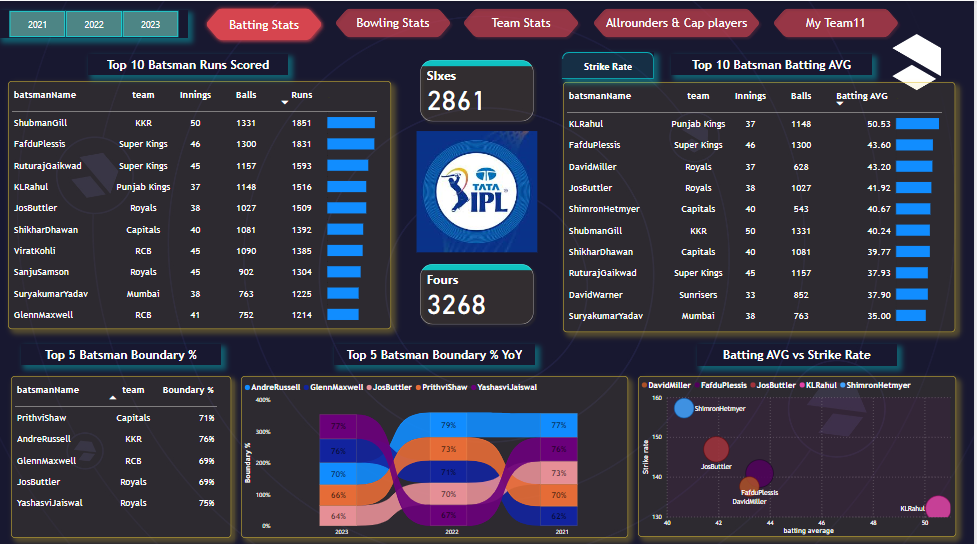

This screenshot's page, from the dashboard's own definition file:
{"tool":"powerbi","page":{"name":"Batting Stats","canvas":[1920,1080],"ordinal":0},"visuals":[{"type":"scatterChart","title":"Scatter by Avg","fields":{"Y":["keymeasure.Strike rate"],"Category":["fact_bating_summary.batsmanName"],"Size":["Sum(fact_bating_summary.runs)"],"Series":["fact_bating_summary.batsmanName"],"X":["keymeasure.batting average"]},"box":[1259.8,738.5,626.7,317.3],"z":0,"group":"g1"},{"type":"ribbonChart","fields":{"Category":["fact_bating_summary.year"],"Y":["keymeasure.Boundary %"],"Series":["fact_bating_summary.batsmanName"]},"box":[476.9,739.1,762.7,319.3],"z":0},{"type":"tableEx","title":"Batting AVG","fields":{"Values":["fact_bating_summary.batsmanName","dim_players.team","fact_bating_summary.match","Sum(fact_bating_summary.balls)","keymeasure.batting average","keymeasure.cp bat avg"]},"box":[1112.8,158.4,772.6,492.7],"z":1000,"group":"g1"},{"type":"tableEx","title":"Boundary %","fields":{"Values":["fact_bating_summary.batsmanName","dim_players.team","keymeasure.Boundary %"]},"box":[23.6,739.1,433.6,319.3],"z":1000},{"type":"slicer","fields":{"Values":["dim_match_summary.year"]},"box":[0,17.7,372.5,55.2],"z":2000},{"type":"shape","box":[1324.4,104.5,396.1,41.4],"z":2000,"group":"g1"},{"type":"actionButton","title":"Strike rate button","box":[1110,100,181.3,53.2],"z":3000,"group":"g1"},{"type":"tableEx","title":"Runs Scored","fields":{"Values":["fact_bating_summary.batsmanName","dim_players.team","fact_bating_summary.match","Sum(fact_bating_summary.balls)","Sum(fact_bating_summary.runs)","keymeasure.total runs"]},"box":[17.7,157.7,754.8,488.8],"z":4000},{"type":"group","id":"g1","title":"batting avg","box":[1110,100,776.5,955.8],"z":5000},{"type":"cardVisual","fields":{"Data":["CountNonNull(fact_bating_summary.fours)"]},"box":[817.7,507.3,248.3,143.4],"z":6000},{"type":"cardVisual","fields":{"Data":["Sum(fact_bating_summary.sixes)"]},"box":[817.7,104.9,248.3,145.6],"z":7000},{"type":"shape","box":[1376.3,676.4,393.8,42.8],"z":8000},{"type":"shape","box":[659.3,676.4,396,40.7],"z":9000},{"type":"shape","box":[42.8,676.4,393.8,40.7],"z":10000},{"type":"shape","box":[175.5,104.9,393.8,40.7],"z":11000},{"type":"actionButton","box":[398.1,6.9,248.3,80],"z":12000},{"type":"actionButton","box":[652.8,6.4,248.3,74.9],"z":13000},{"type":"actionButton","box":[905.4,6.4,248.3,74.9],"z":14000},{"type":"actionButton","box":[1160.1,6.4,348.9,74.9],"z":15000},{"type":"actionButton","box":[1515.5,6.9,267.6,74.9],"z":16000},{"type":"image","box":[817.7,250.4,248.3,250.4],"z":17000}]}

Visuals, with their boxes in screenshot pixels (x1, y1, x2, y2), scaled from the page's 1920x1080 canvas onto the 977x544 screenshot:
"Scatter by Avg" scatterChart: 641/372/960/532
ribbonChart - fact_bating_summary.year x keymeasure.Boundary %: 243/372/631/533
"Batting AVG" tableEx: 566/80/959/328
"Boundary %" tableEx: 12/372/233/533
slicer - dim_match_summary.year: 0/9/190/37
shape: 674/53/875/73
"Strike rate button" actionButton: 565/50/657/77
"Runs Scored" tableEx: 9/79/393/326
"batting avg" group: 565/50/960/532
cardVisual - CountNonNull(fact_bating_summary.fours): 416/256/542/328
cardVisual - Sum(fact_bating_summary.sixes): 416/53/542/126
shape: 700/341/901/362
shape: 335/341/537/361
shape: 22/341/222/361
shape: 89/53/290/73
actionButton: 203/3/329/44
actionButton: 332/3/459/41
actionButton: 461/3/587/41
actionButton: 590/3/768/41
actionButton: 771/3/907/41
image: 416/126/542/252
